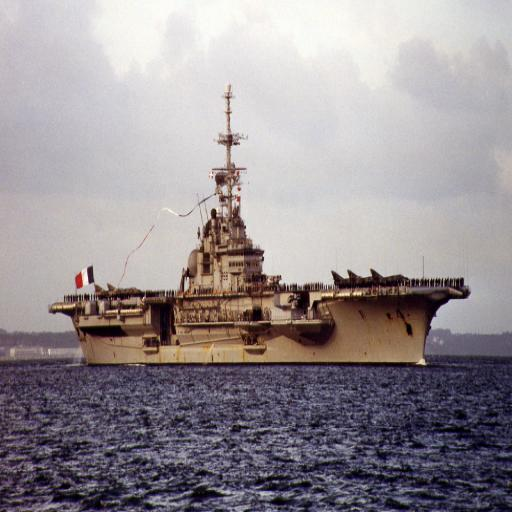Portanaves: (44, 83, 473, 373)
